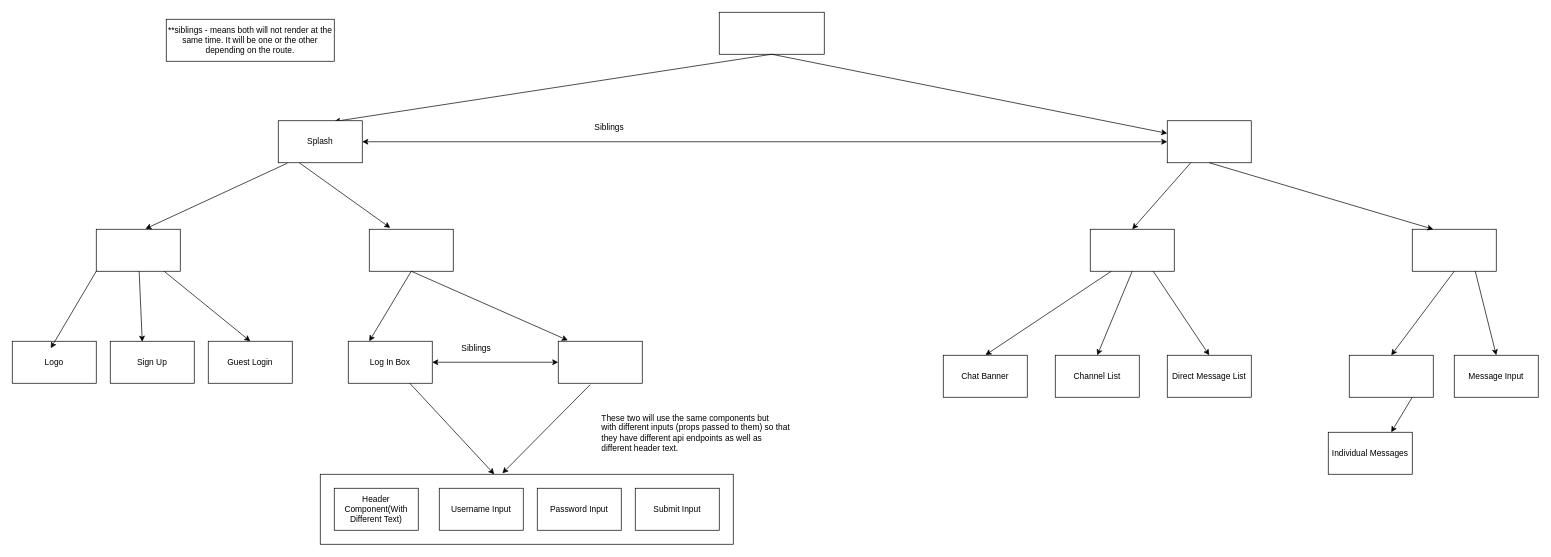
Image size: 1551x557. Some labels were removed from this diagram. Each missing label, with the box of its shape:
All Messages: (1349, 355, 1433, 397)
App: (719, 12, 824, 54)
Chat: (1167, 120, 1251, 163)
Chat Sidebar: (1090, 229, 1174, 271)
Message Panel: (1412, 229, 1496, 271)
Sign Up Box: (558, 341, 642, 383)
Splash Header: (96, 229, 180, 271)
SplashMain: (369, 229, 453, 271)
